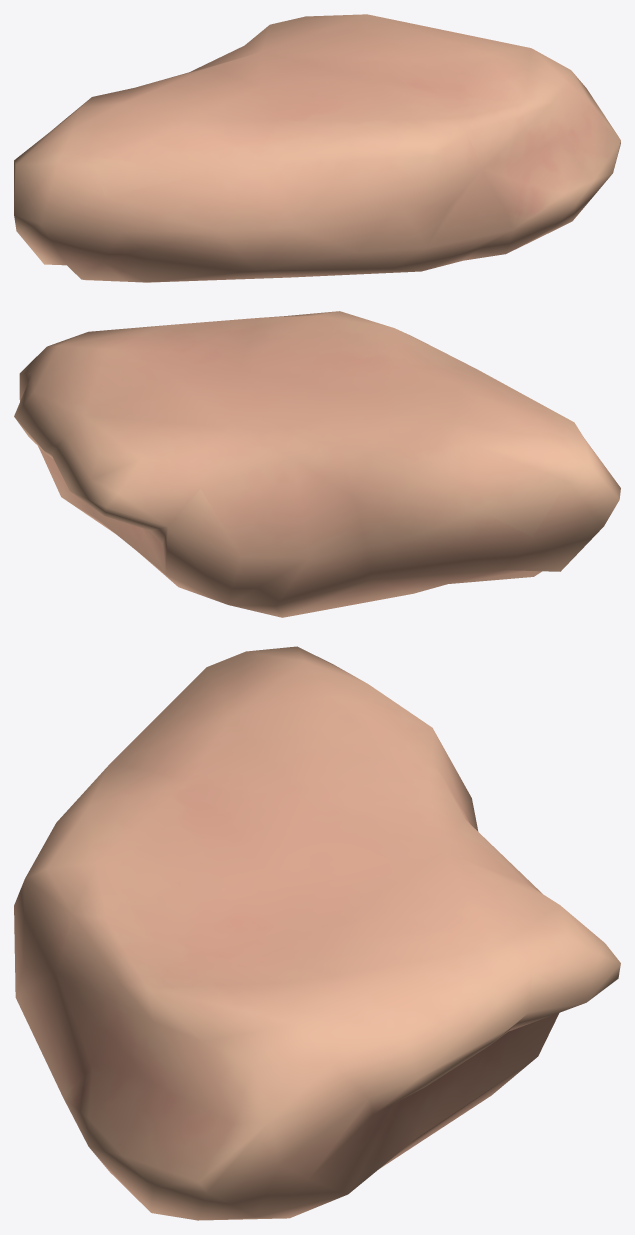
File: ROK0110036.fbx
3 renders of one model, top to bottom at view 1: azimuth 30°, elevation 25°; view 2: azimuth 150°, elevation 25°; view 3: azimuth 270°, elevation 25°, orthographic. The views are drawn at different scales.
Parts seen in each view (by area): view 1: smROK0110036; view 2: smROK0110036; view 3: smROK0110036.
Boxes of the visible parts, x1,y1,x2,y2 form: smROK0110036: [14, 14, 620, 282]; smROK0110036: [14, 311, 620, 617]; smROK0110036: [14, 646, 620, 1220].
Size of the model in its own units: 820 by 255 by 505.
1 material, 1 textured.
